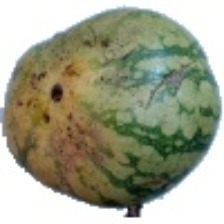watermelon: (53, 20, 213, 215)
